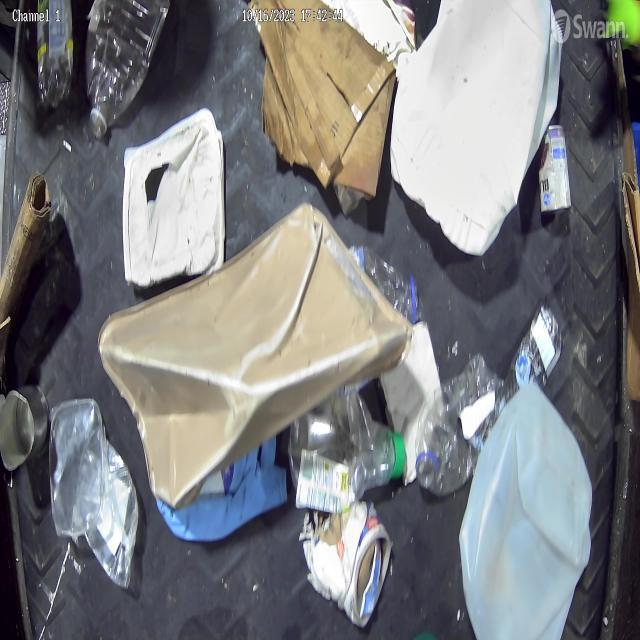can: (0, 376, 50, 480), (535, 116, 572, 212)
milk_jug: (388, 0, 562, 256), (462, 378, 590, 640)
plastic_bottle: (288, 387, 408, 517), (84, 0, 172, 140), (414, 357, 497, 487), (498, 306, 560, 401), (352, 243, 422, 322), (32, 0, 78, 116)
